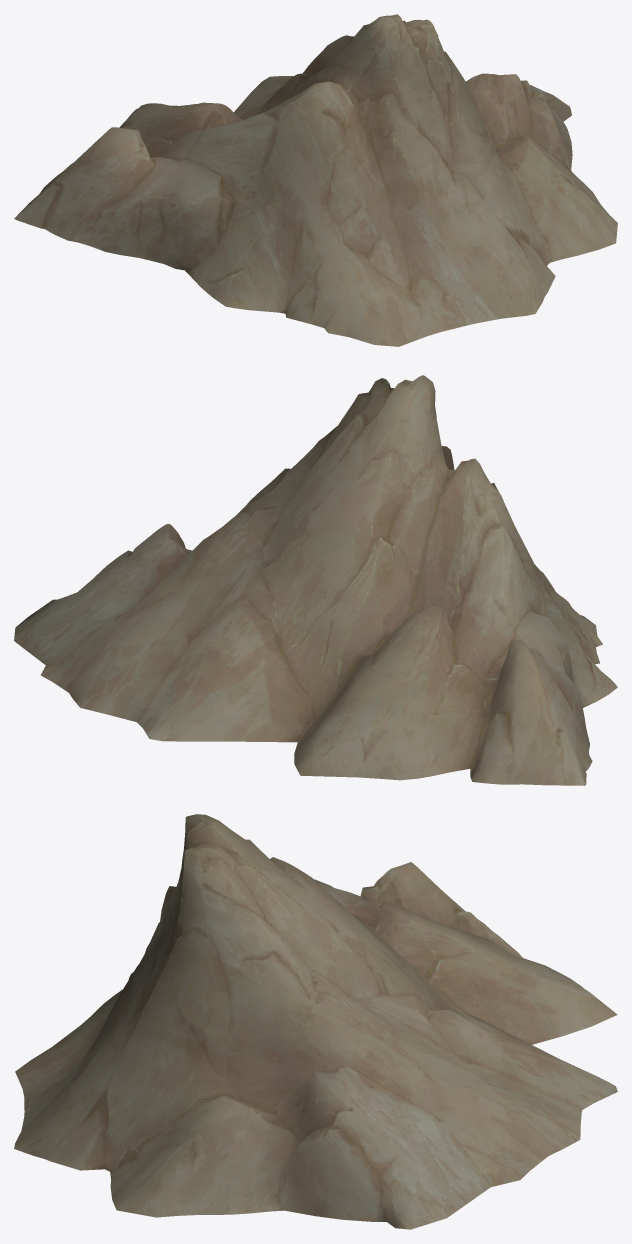
Rendered from Area_Dq_Stone_QLD_Ground_L_02.fbx.
3 renders of one model, top to bottom at view 1: azimuth 30°, elevation 25°; view 2: azimuth 150°, elevation 25°; view 3: azimuth 270°, elevation 25°, orthographic. The views are drawn at different scales.
Parts seen in each view (by area): view 1: Area_Dq_Stone_QLD_Ground_L_02_Lod0; view 2: Area_Dq_Stone_QLD_Ground_L_02_Lod0; view 3: Area_Dq_Stone_QLD_Ground_L_02_Lod0.
Boxes of the visible parts, bbox=[...] form: Area_Dq_Stone_QLD_Ground_L_02_Lod0: bbox=[14, 14, 617, 346]; Area_Dq_Stone_QLD_Ground_L_02_Lod0: bbox=[14, 375, 617, 785]; Area_Dq_Stone_QLD_Ground_L_02_Lod0: bbox=[14, 814, 617, 1229].
Size of what is drawn, in the model's own units: 146 by 66.61 by 123.
1 material, 1 textured.
